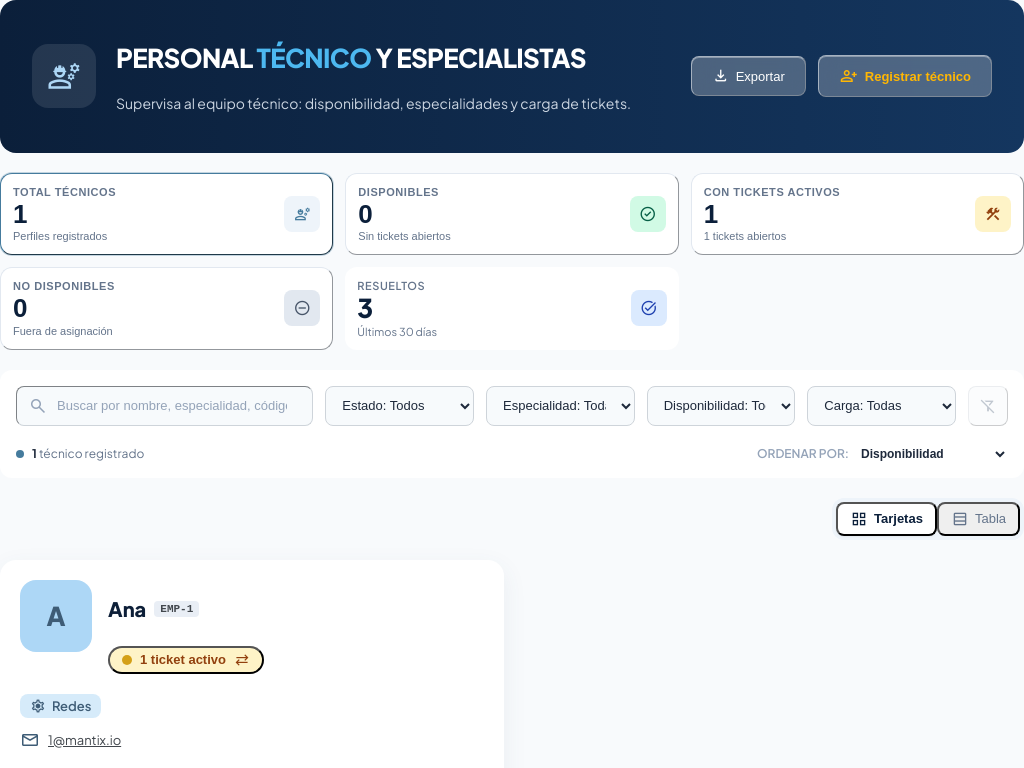
Test: TechniciansComponent › opens the shared export panel for the technicians report, without a date range
What coordinates should you click on to do the following:
click the button "Tabla"
I would click on:
 (978, 519)
Its box is [937,502,1020,536].
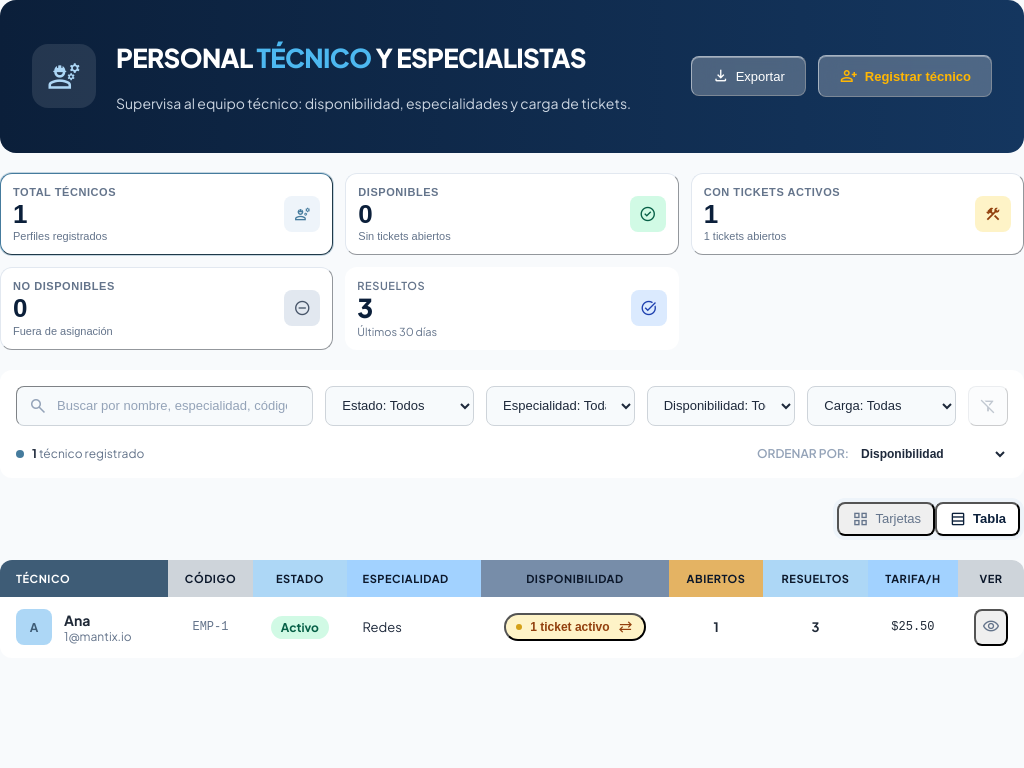
What coordinates should you click on to do the following:
click the button "Exportar"
I would click on:
 (748, 76)
Its box is [691,56,806,96].
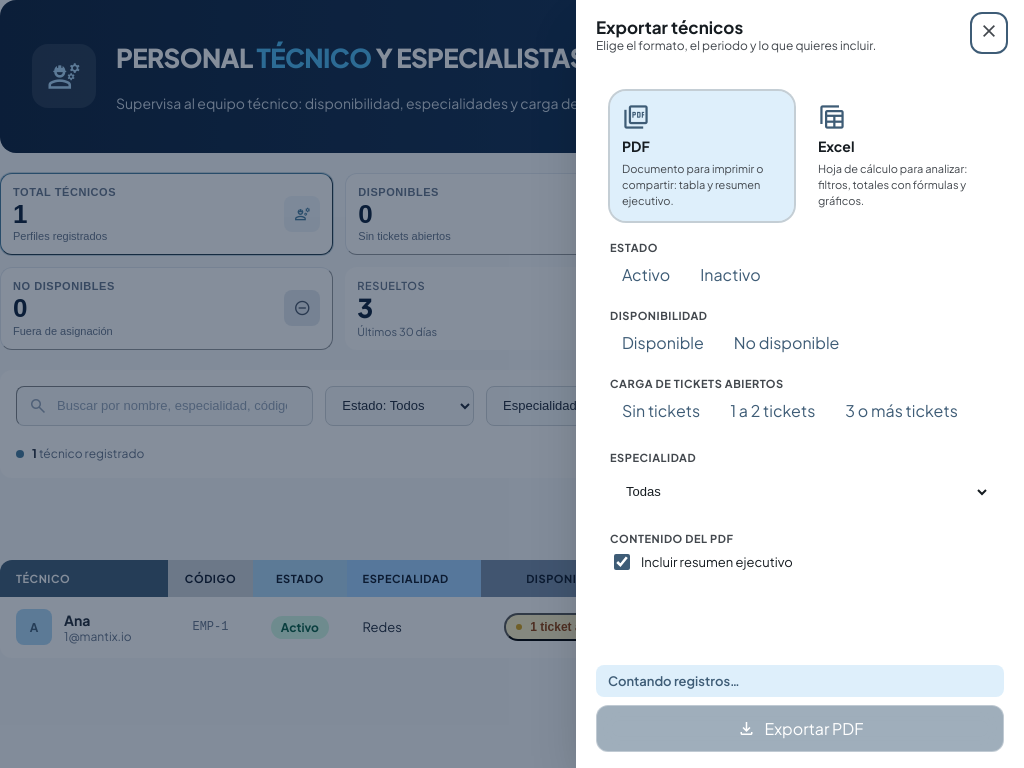
expect the text "Exportar técnicos" is shown: met, box [596,16,743,38]
expect the element named "Disponibilidad" is shown: met, box [610,309,852,357]
